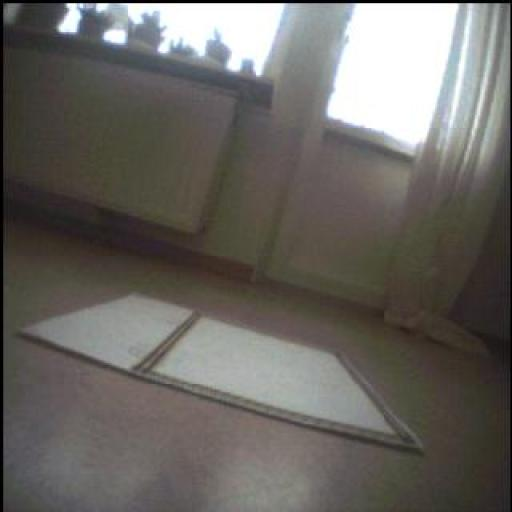Pad: (24, 296, 424, 453), (23, 296, 193, 373)
